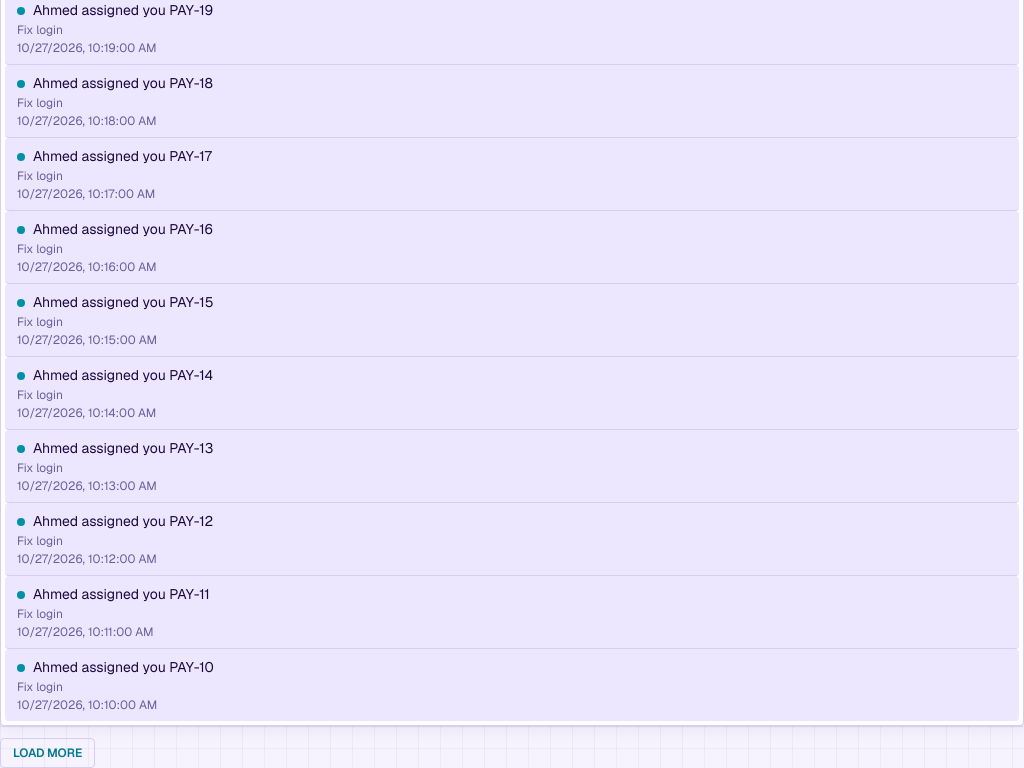
Test: NotificationList › pages and links
(page scrolled)
What coordinates should you click on to do the following:
click the button "Load more"
I would click on:
 (48, 753)
Its box is [0,738,95,767].
(page scrolled)
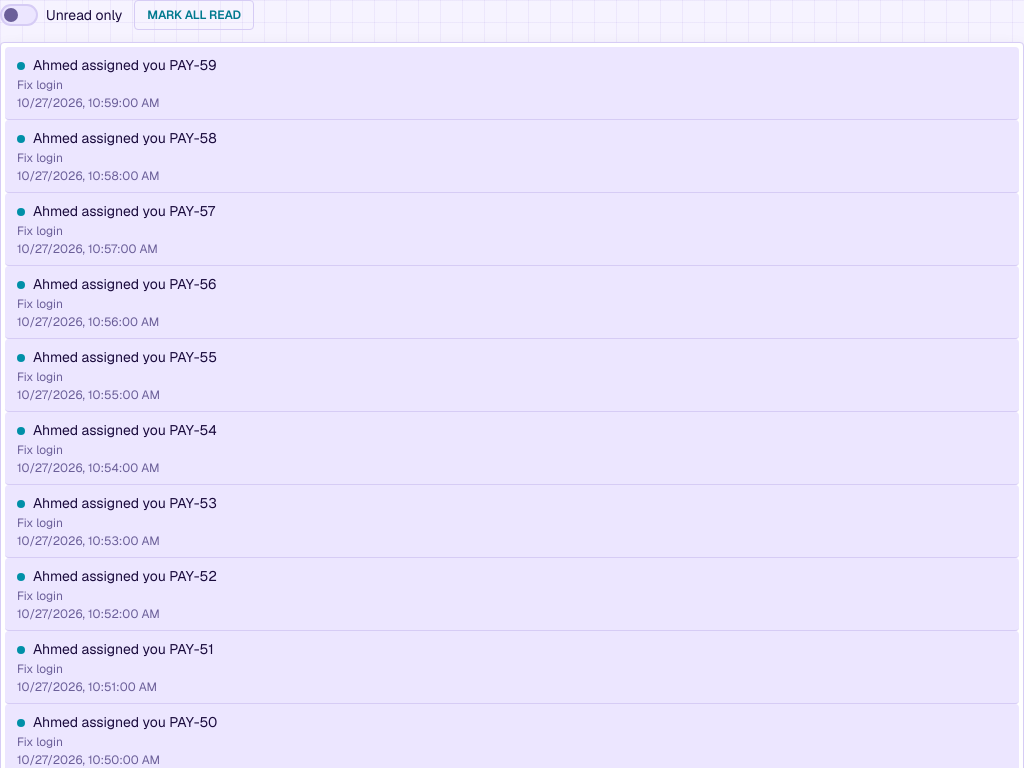
Expected: the button "Load more" is gone
What coordinates should you click on to do the following:
click the checkbox labelled "Unread only"
I would click on:
 (19, 15)
Its box is [0,4,38,26].
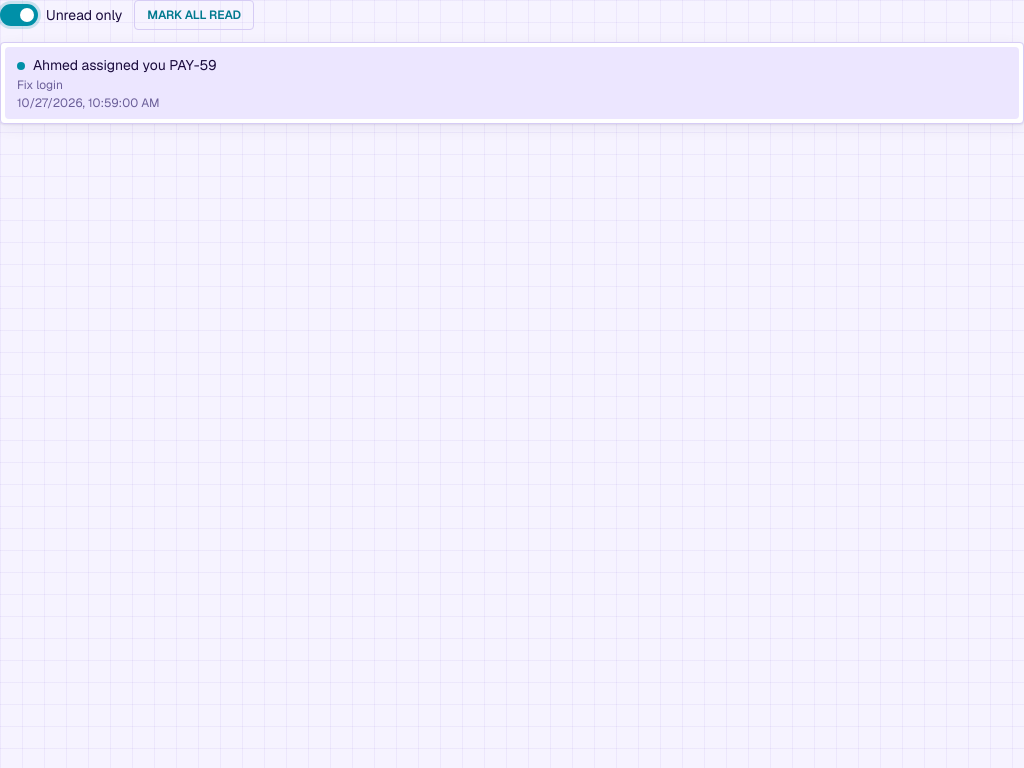
Expected: the number of list items is 1, [5,47,1019,119]
